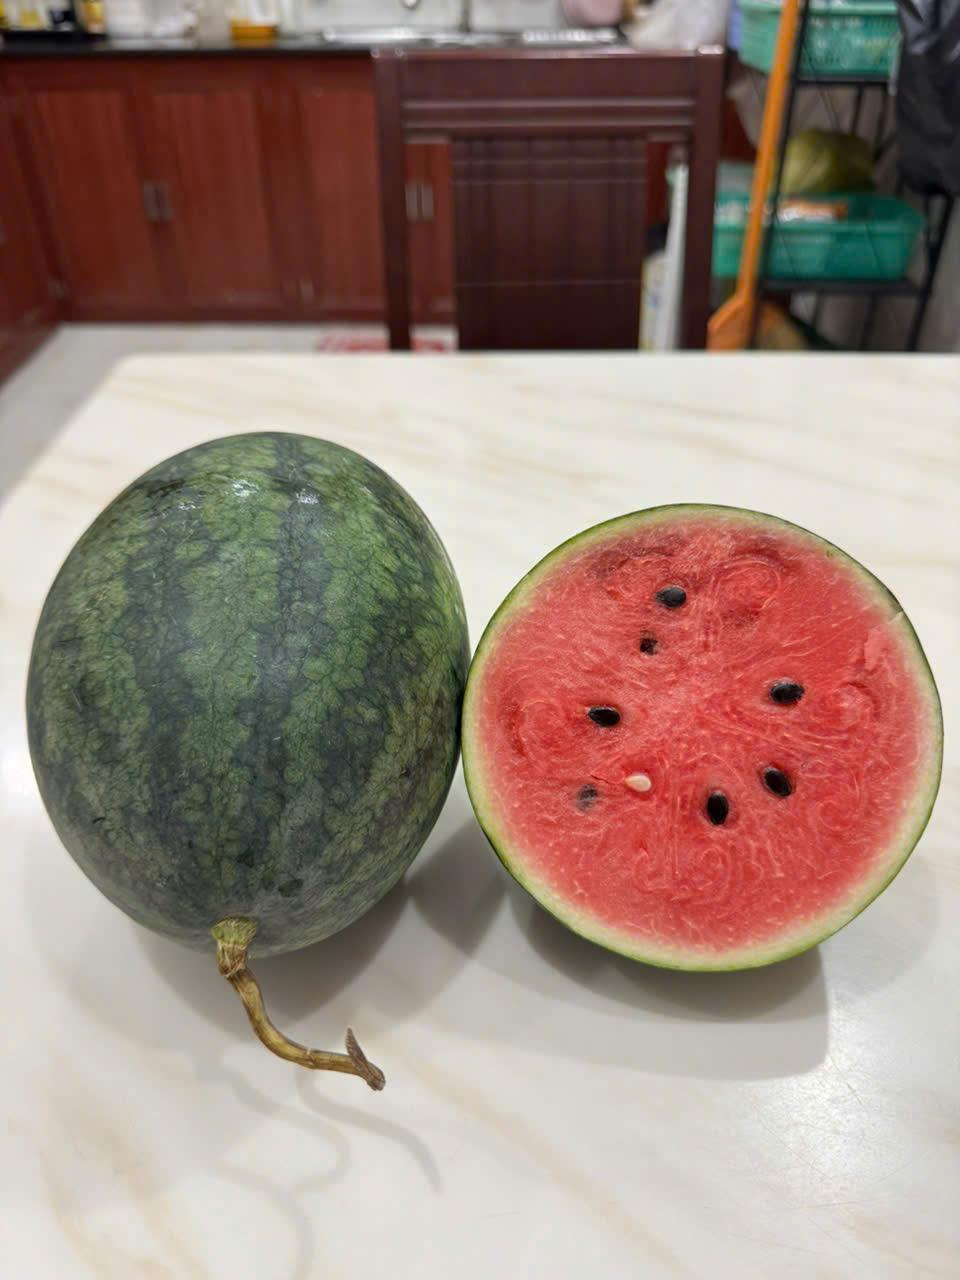watermelon: (10, 412, 467, 1113), (454, 490, 950, 982)
